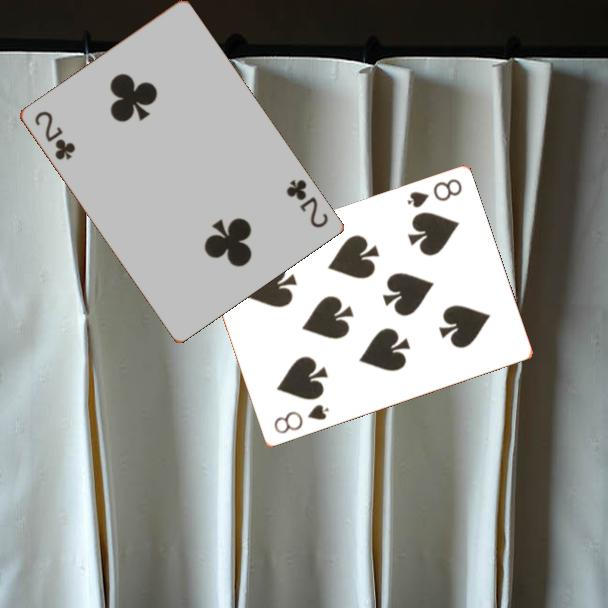c02: (282, 176, 331, 231), (30, 107, 78, 163)
s08: (270, 401, 332, 437), (403, 176, 465, 211)
